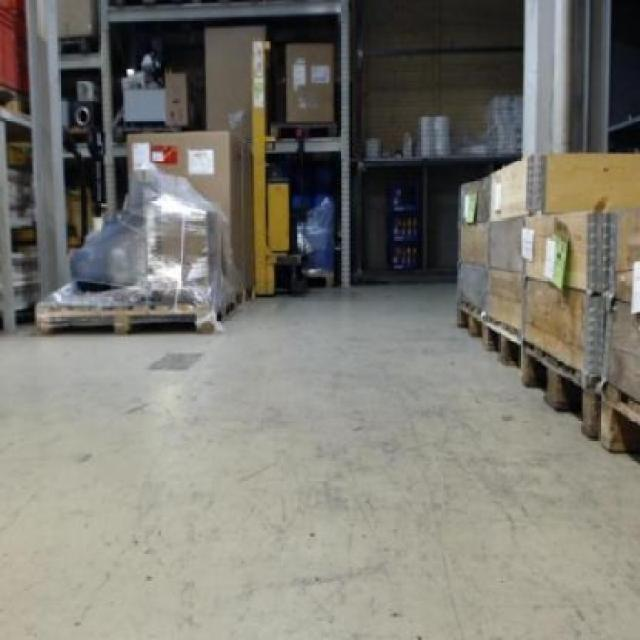floor: (0, 283, 637, 637)
pallets: (455, 152, 637, 449)
